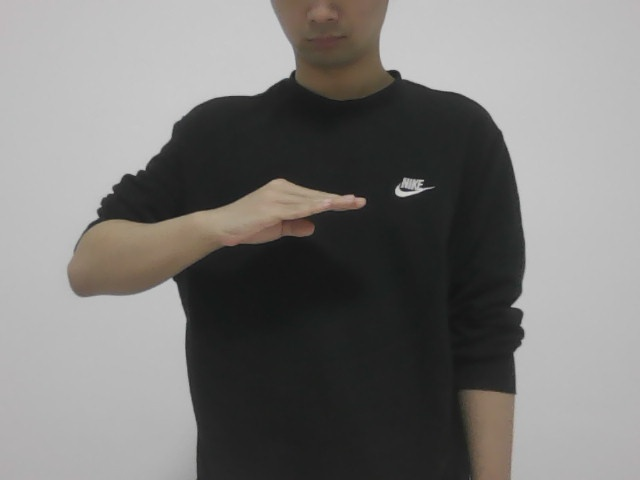late/night: (212, 164, 366, 249)
